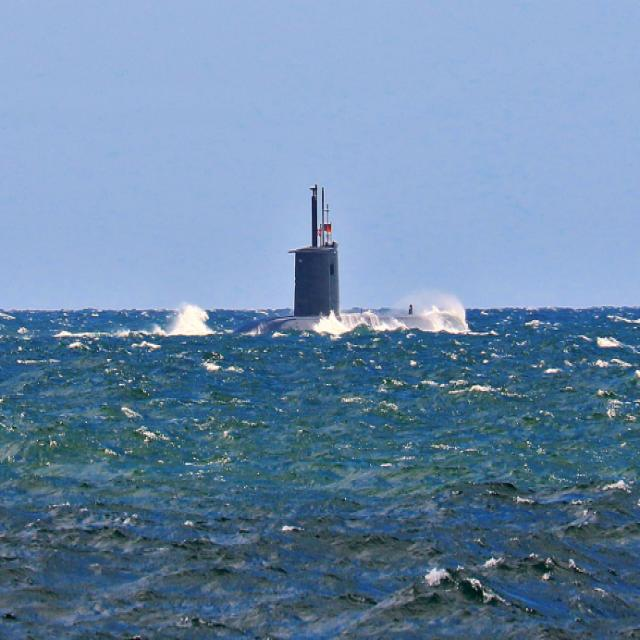submarine: (231, 241, 472, 337)
